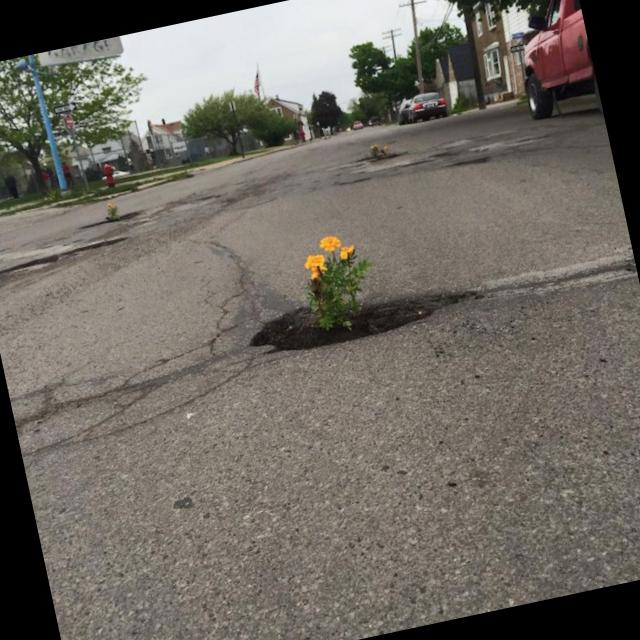Potholes: (210, 201, 487, 377), (0, 230, 133, 284), (399, 132, 494, 184), (70, 192, 148, 236), (353, 126, 413, 175)
